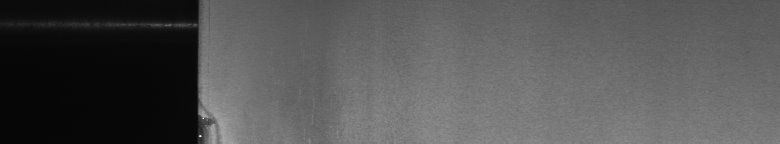hb: (208, 108, 225, 136)
